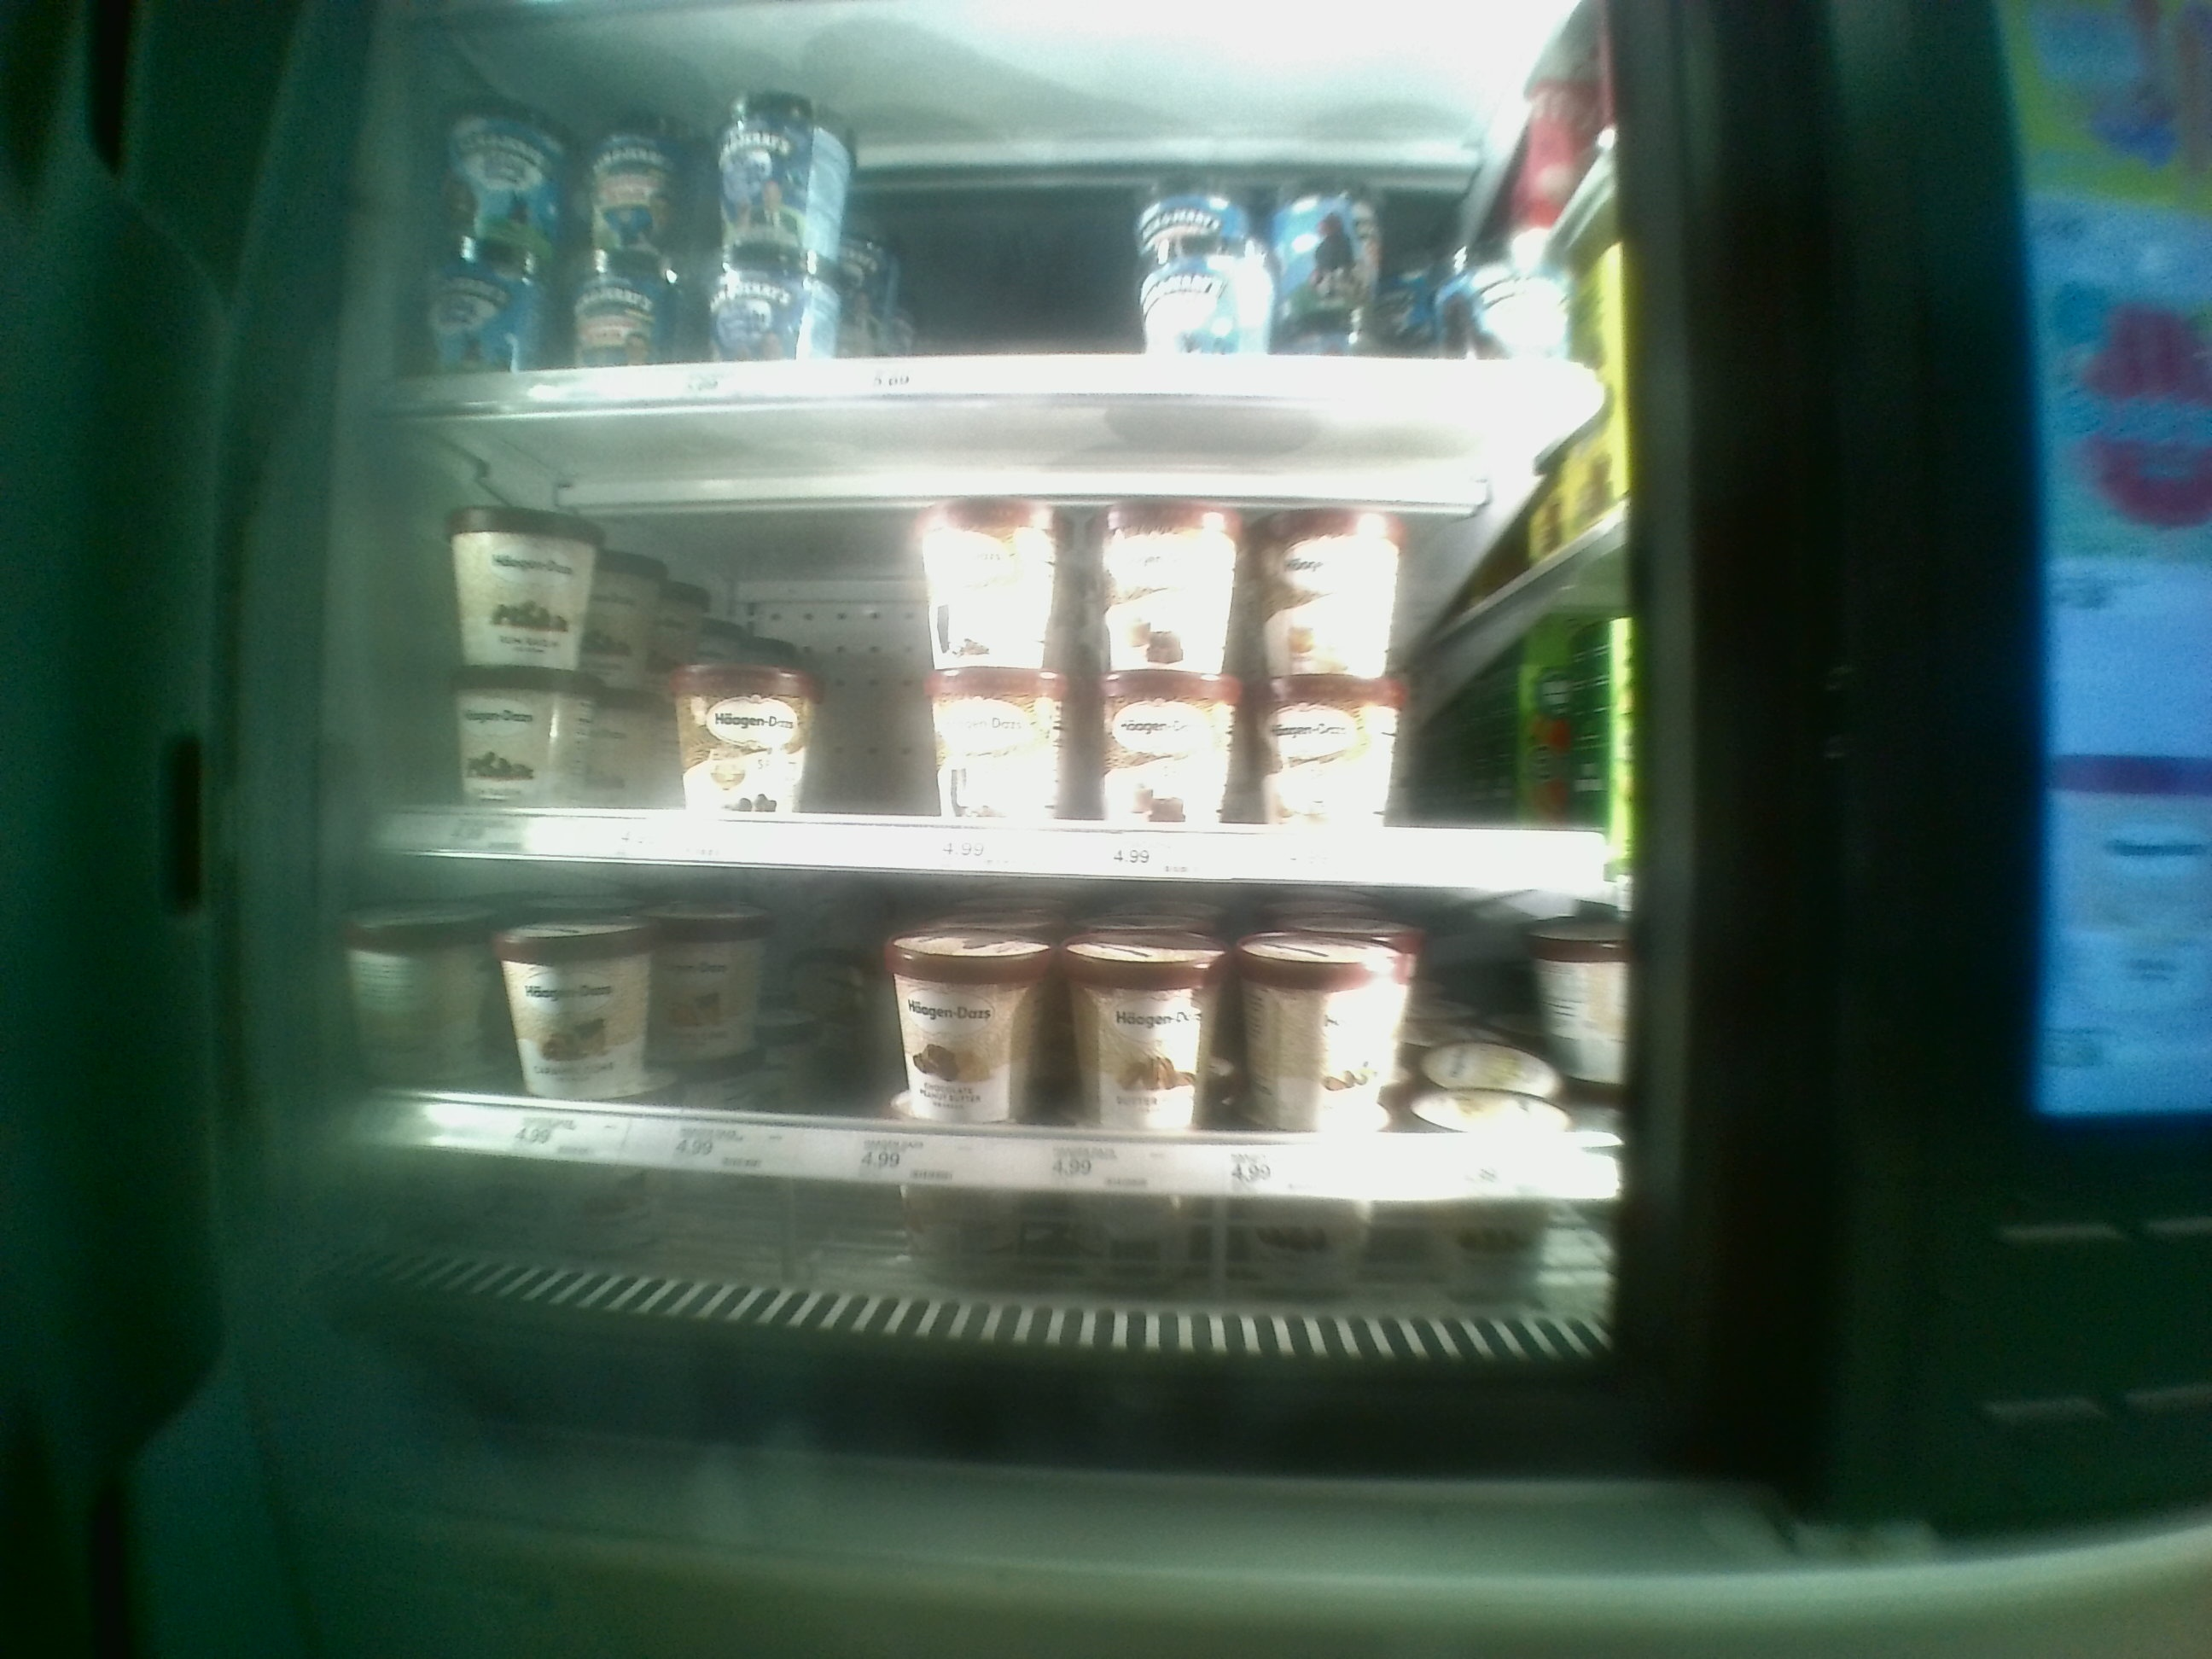ice-cream-shelf: (371, 408, 1639, 882), (371, 859, 1627, 1229)
